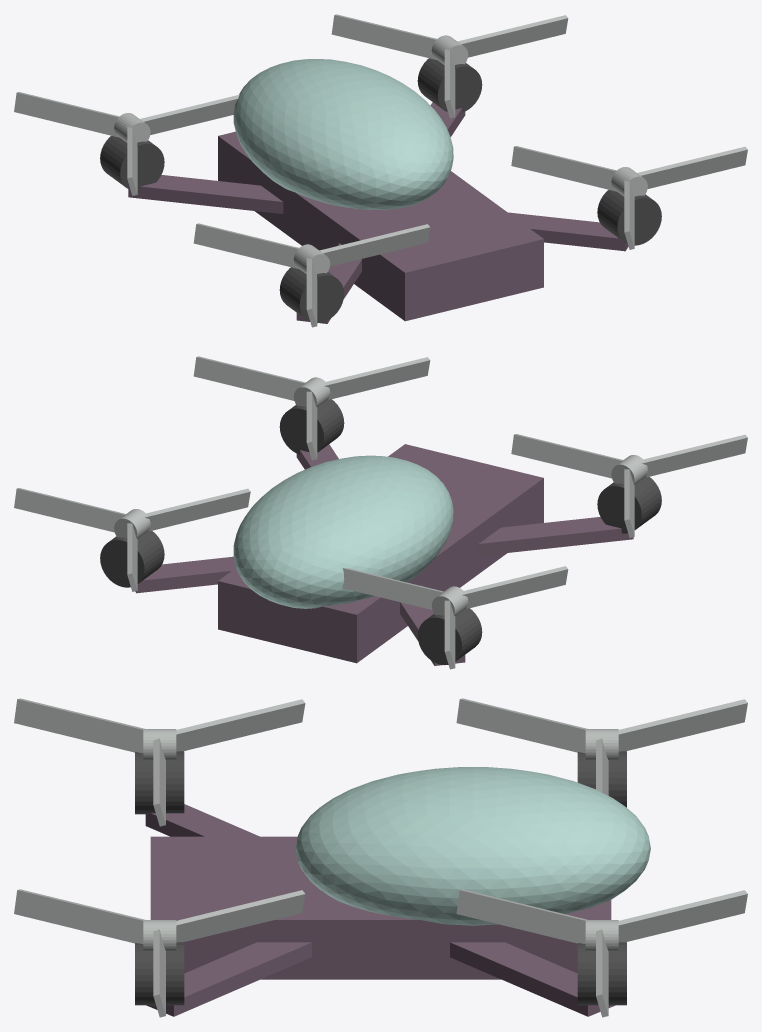
File: Strix.glb
3 renders of one model, top to bottom at view 1: azimuth 30°, elevation 25°; view 2: azimuth 150°, elevation 25°; view 3: azimuth 270°, elevation 25°, orthographic. The views are drawn at different scales.
Parts seen in each view (by area): view 1: canopy, frame_body, prop_2, prop_1, prop_0, prop_3, arm_3, arm_0, motor_0, motor_2, motor_3, motor_1 (+1 smaller); view 2: canopy, frame_body, prop_0, prop_1, prop_2, prop_3, arm_2, motor_1, arm_1, motor_3, motor_2, motor_0 (+2 smaller); view 3: canopy, frame_body, prop_1, prop_2, prop_0, prop_3, arm_1, arm_0, motor_1, motor_0, motor_2, arm_2 (+1 smaller).
Part boxes in pixels (box(x1,y1,x2,y2)): canopy: box(233, 59, 453, 209); frame_body: box(218, 131, 543, 321); prop_2: box(193, 223, 430, 327); prop_1: box(331, 14, 568, 118); prop_0: box(511, 146, 747, 249); prop_3: box(14, 92, 239, 195); arm_3: box(128, 175, 283, 213); arm_0: box(508, 212, 628, 251); motor_0: box(597, 190, 661, 245); motor_2: box(279, 267, 344, 323); motor_3: box(100, 136, 164, 191); motor_1: box(417, 58, 482, 112); canopy: box(233, 455, 453, 608); frame_body: box(218, 444, 543, 663); prop_0: box(193, 356, 430, 460); prop_1: box(14, 488, 250, 591); prop_2: box(511, 434, 747, 537); prop_3: box(342, 566, 568, 669); arm_2: box(478, 517, 633, 555); motor_1: box(100, 531, 164, 587); arm_1: box(135, 556, 236, 593); motor_3: box(417, 608, 482, 665); motor_2: box(597, 477, 661, 533); motor_0: box(279, 399, 344, 454); canopy: box(295, 767, 650, 925); frame_body: box(150, 836, 611, 979); prop_1: box(456, 889, 747, 1017); prop_2: box(14, 698, 305, 826); prop_0: box(14, 889, 305, 1017); prop_3: box(456, 698, 747, 795); arm_1: box(450, 942, 615, 1016); arm_0: box(146, 942, 311, 1016); motor_1: box(577, 942, 626, 1005); motor_0: box(135, 942, 184, 1005); motor_2: box(135, 751, 184, 814); arm_2: box(145, 804, 259, 836).
Size of the model in its own units: 0.2139 by 0.0516 by 0.2229.
